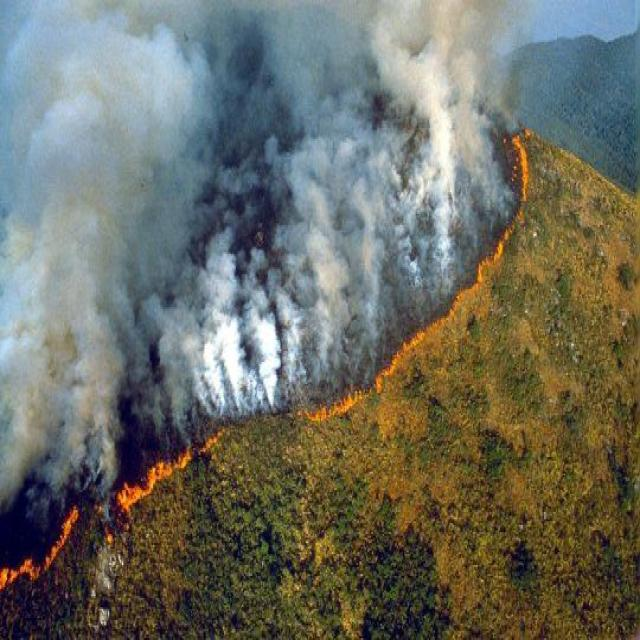Fire: (115, 431, 181, 513)
Smoke: (0, 0, 507, 505)
